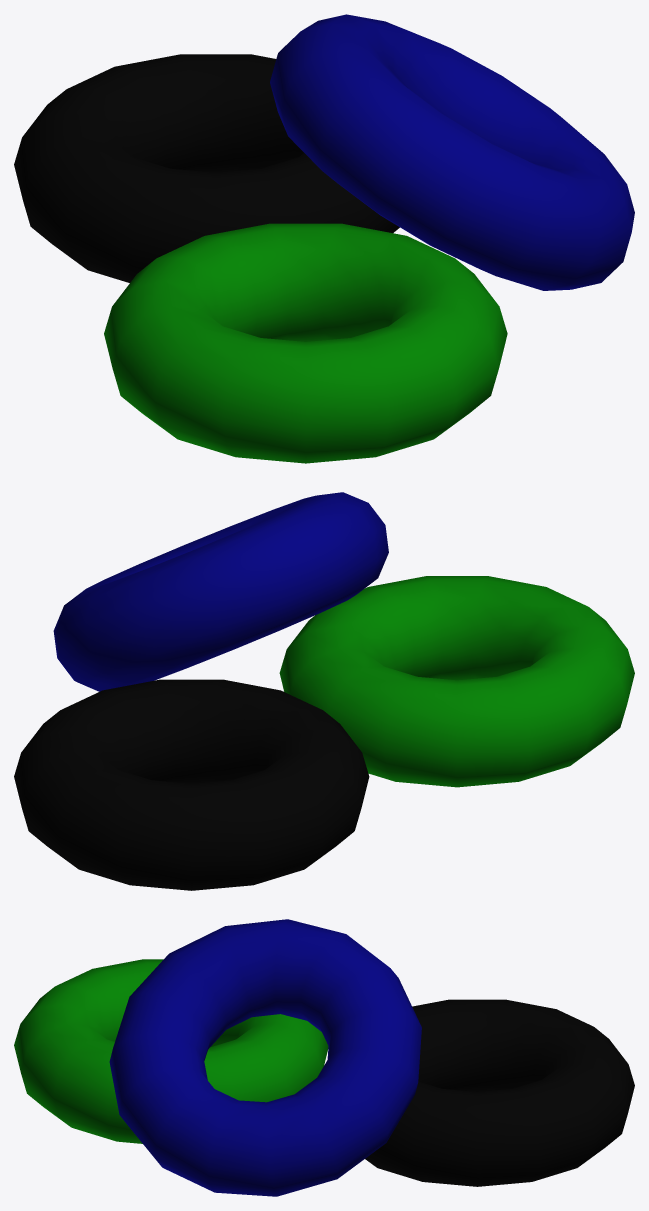
The model's file is flotadores.obj.
The picture shows the model from 3 angles, top to bottom: view 1: azimuth 30°, elevation 25°; view 2: azimuth 150°, elevation 25°; view 3: azimuth 270°, elevation 25°; orthographic projection. The views are drawn at different scales.
Visible parts, largest first — view 1: Torus.001, Torus.002, Torus; view 2: Torus, Torus.001, Torus.002; view 3: Torus.002, Torus, Torus.001.
Boxes of the visible parts, x1=… form: Torus.001: x1=104, y1=223, x2=507, y2=463; Torus.002: x1=270, y1=14, x2=634, y2=290; Torus: x1=14, y1=54, x2=399, y2=282; Torus: x1=14, y1=679, x2=369, y2=890; Torus.001: x1=279, y1=576, x2=634, y2=787; Torus.002: x1=53, y1=492, x2=388, y2=691; Torus.002: x1=109, y1=919, x2=421, y2=1196; Torus: x1=365, y1=999, x2=634, y2=1186; Torus.001: x1=14, y1=959, x2=328, y2=1143.
Bounding box in the file's own units: 20.88 × 10.06 × 26.68.
1 material, 1 textured.
